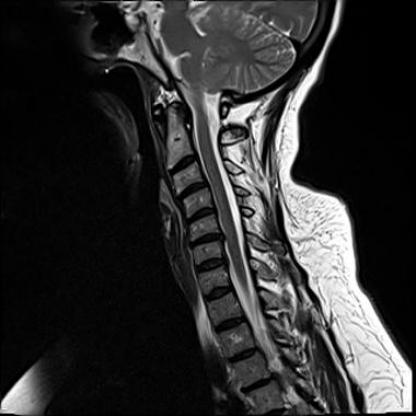Disc Bulgerotation: (194, 257, 228, 274), (183, 207, 218, 223), (174, 183, 211, 198), (187, 233, 226, 247)
Disc Protrusionrotation: (194, 257, 228, 274)
Osteophytesrotation: (174, 183, 211, 198), (186, 233, 225, 247), (183, 207, 217, 223)
